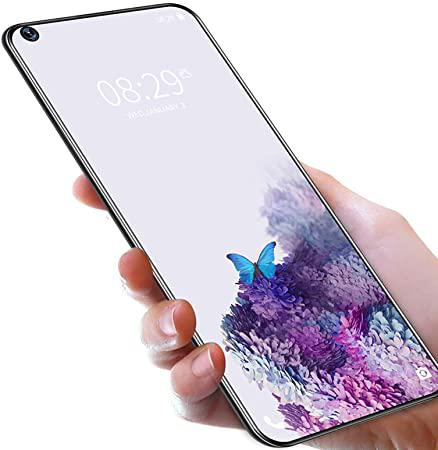Hand: (76, 164, 438, 450)
Smartphone: (12, 11, 438, 436)
